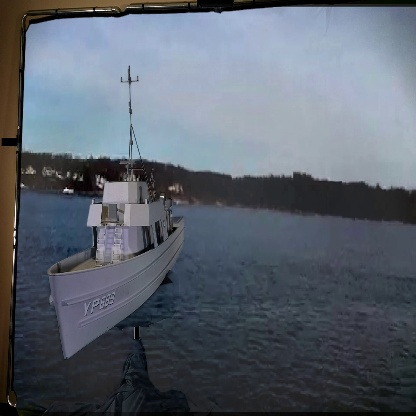YP689: (49, 57, 186, 363)
